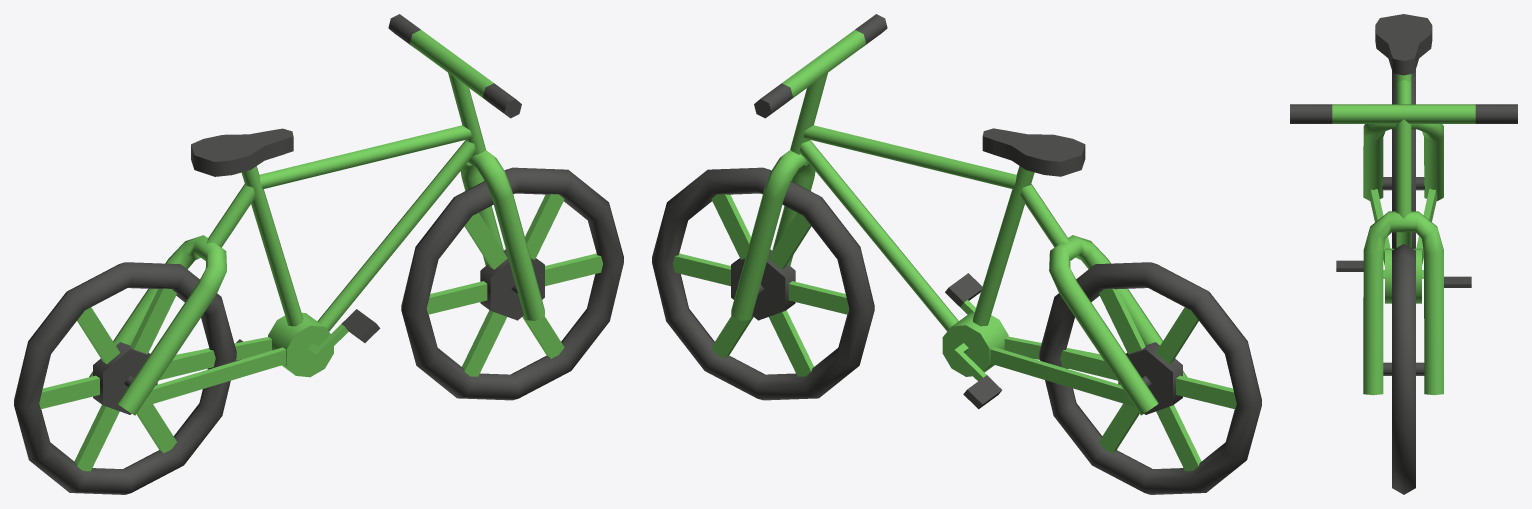
Rendered from bike_green.fbx.
The picture shows the model from 3 angles, left to right: view 1: azimuth 30°, elevation 25°; view 2: azimuth 150°, elevation 25°; view 3: azimuth 270°, elevation 25°; orthographic projection.
Parts seen in each view (by area): view 1: bike_green; view 2: bike_green; view 3: bike_green.
Part boxes in pixels (<box>): bike_green: <box>14,14,623,494</box>; bike_green: <box>652,14,1261,494</box>; bike_green: <box>1290,14,1517,494</box>.
Bounding box in the file's own units: 131 × 73.55 × 43.26.
Materials: 1 (1 with a texture image).
